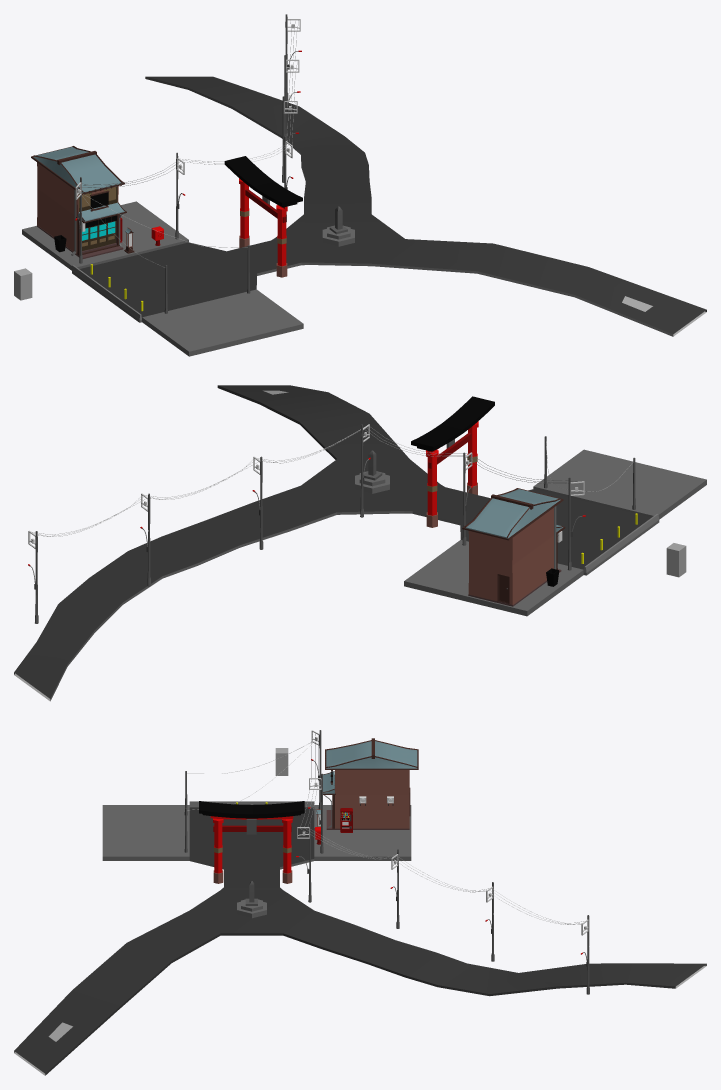
Rendered from vilinha.fbx.
3 renders of one model, top to bottom at view 1: azimuth 30°, elevation 25°; view 2: azimuth 150°, elevation 25°; view 3: azimuth 270°, elevation 25°, orthographic. The views are drawn at different scales.
Parts seen in each view (by area): view 1: polySurface10, pasted__pCube2, pasted__pCube23, pasted__polySurface324, pasted__polySurface326, pasted__polySurface327, pCube1, pasted__pCube20; view 2: polySurface10, pasted__pCube2, pasted__pCube23, pasted__polySurface324, pasted__polySurface327, pCube1, pasted__polySurface326, pCylinder2; view 3: polySurface10, pasted__pCube2, pasted__pCube23, pasted__polySurface324, pasted__polySurface326, pasted__polySurface327.
Part boxes in pixels (left/top/right/bottom): polySurface10: left=22, top=76, right=706, bottom=356; pasted__pCube2: left=37, top=162, right=123, bottom=258; pasted__pCube23: left=31, top=146, right=124, bottom=194; pasted__polySurface324: left=224, top=156, right=302, bottom=207; pasted__polySurface326: left=276, top=205, right=287, bottom=277; pasted__polySurface327: left=239, top=178, right=249, bottom=247; pCube1: left=14, top=268, right=32, bottom=300; pasted__pCube20: left=76, top=202, right=126, bottom=223; polySurface10: left=14, top=385, right=706, bottom=701; pasted__pCube2: left=468, top=508, right=561, bottom=606; pasted__pCube23: left=462, top=488, right=563, bottom=540; pasted__polySurface324: left=411, top=396, right=494, bottom=451; pasted__polySurface327: left=426, top=450, right=438, bottom=527; pCube1: left=666, top=543, right=686, bottom=577; pasted__polySurface326: left=467, top=421, right=478, bottom=494; pCylinder2: left=355, top=471, right=389, bottom=493; polySurface10: left=14, top=801, right=706, bottom=1075; pasted__pCube2: left=326, top=770, right=409, bottom=829; pasted__pCube23: left=325, top=740, right=418, bottom=769; pasted__polySurface324: left=199, top=801, right=304, bottom=818; pasted__polySurface326: left=213, top=818, right=223, bottom=883; pasted__polySurface327: left=282, top=819, right=292, bottom=883.
Size of the model in its own units: 47.92 by 11.58 by 55.55.
